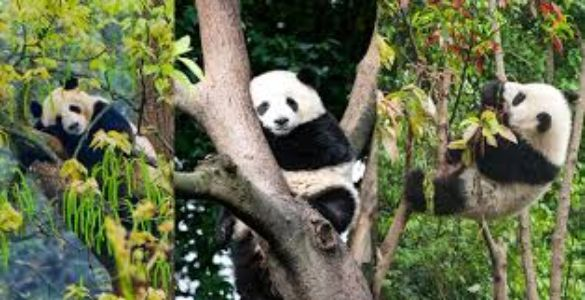bear: (408, 67, 581, 231), (243, 62, 362, 232), (24, 78, 164, 191)
